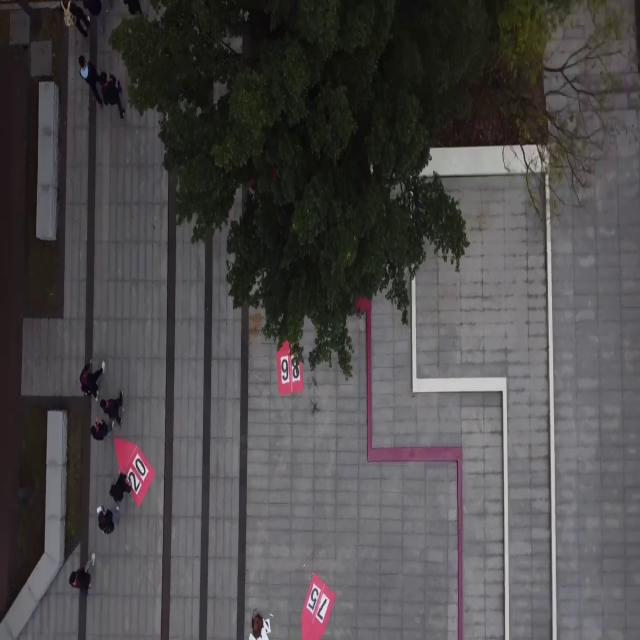-sign-: (110, 432, 163, 514), (298, 562, 338, 640), (271, 329, 311, 403)
